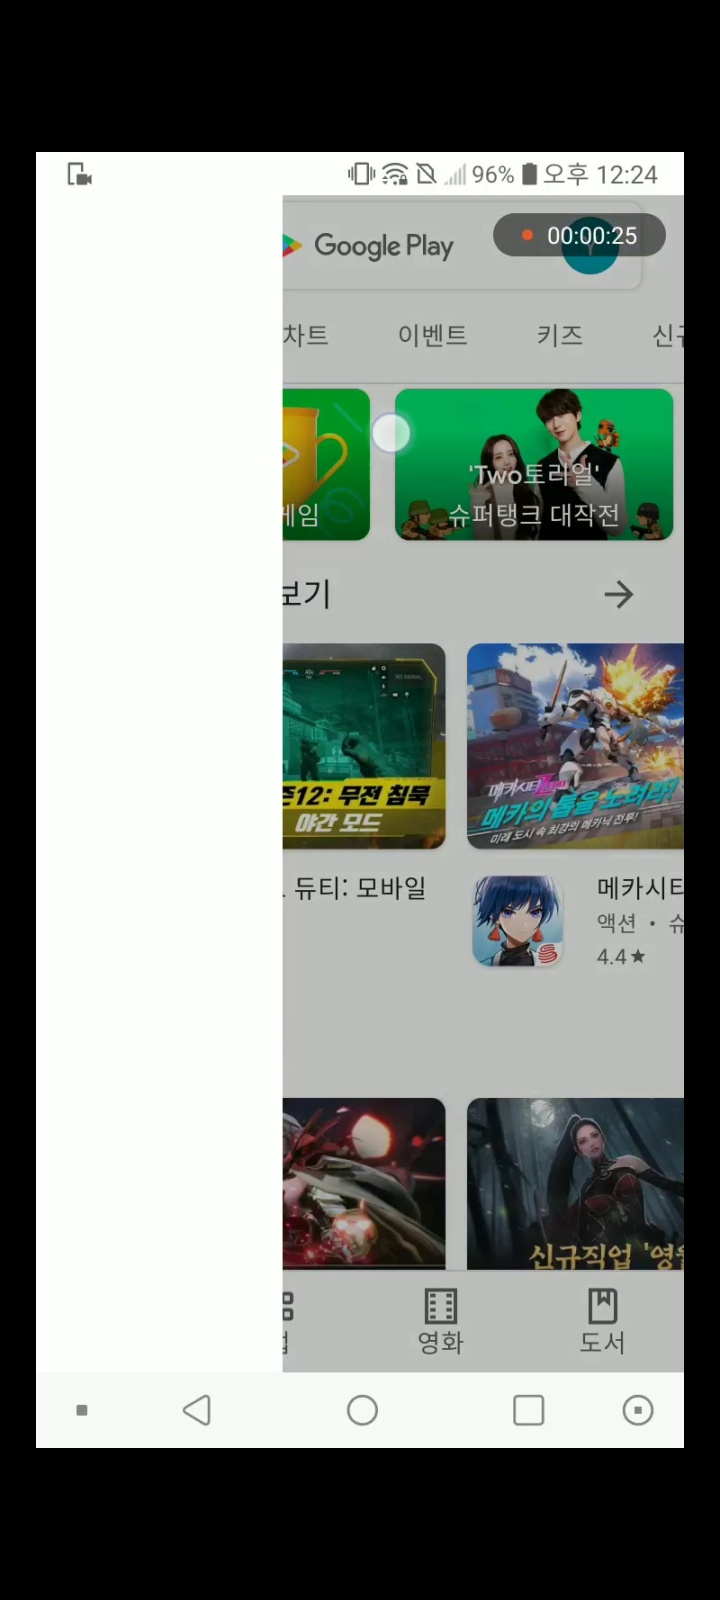Cursor: (370, 412, 415, 457)
